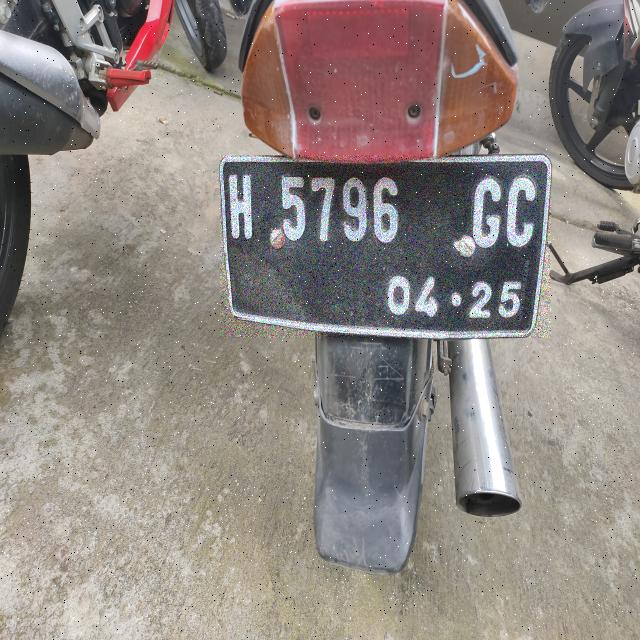plate: (220, 156, 550, 337)
